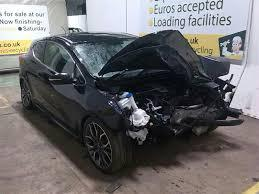Headlight-Damage: (110, 94, 155, 130)
bonnet-dent: (101, 23, 197, 76)
